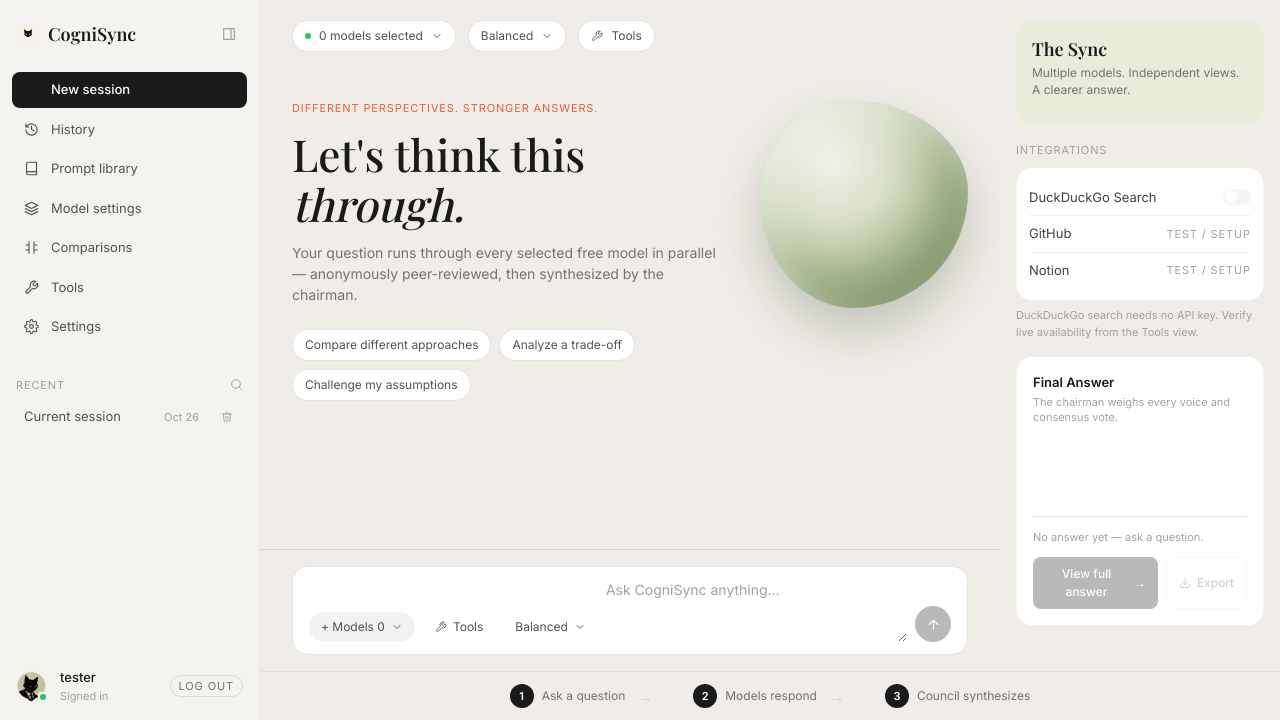
Scenario: conversation deletion › confirms, deletes the current session, and resets the workspace
The image size is (1280, 720).
Type "First question" into the text box with placeholder "Ask CogniSync anything…" at x=756, y=610, box [606,579,907,642]
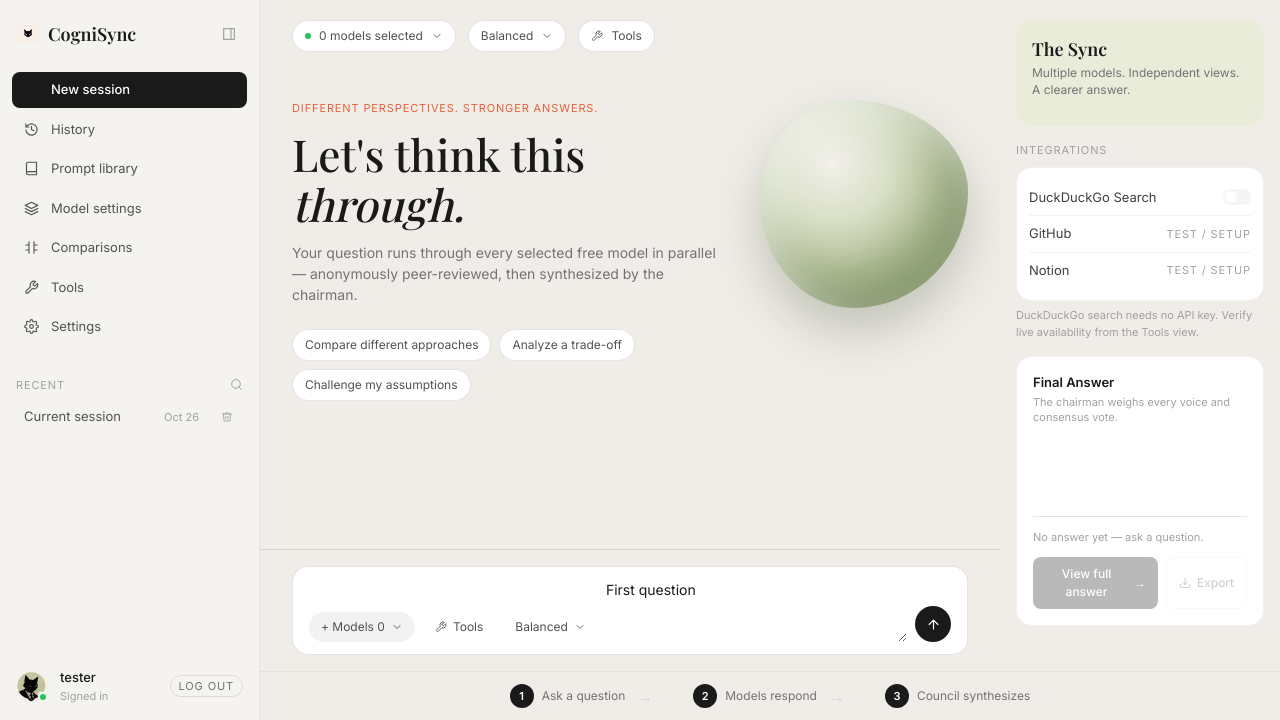
Press Enter
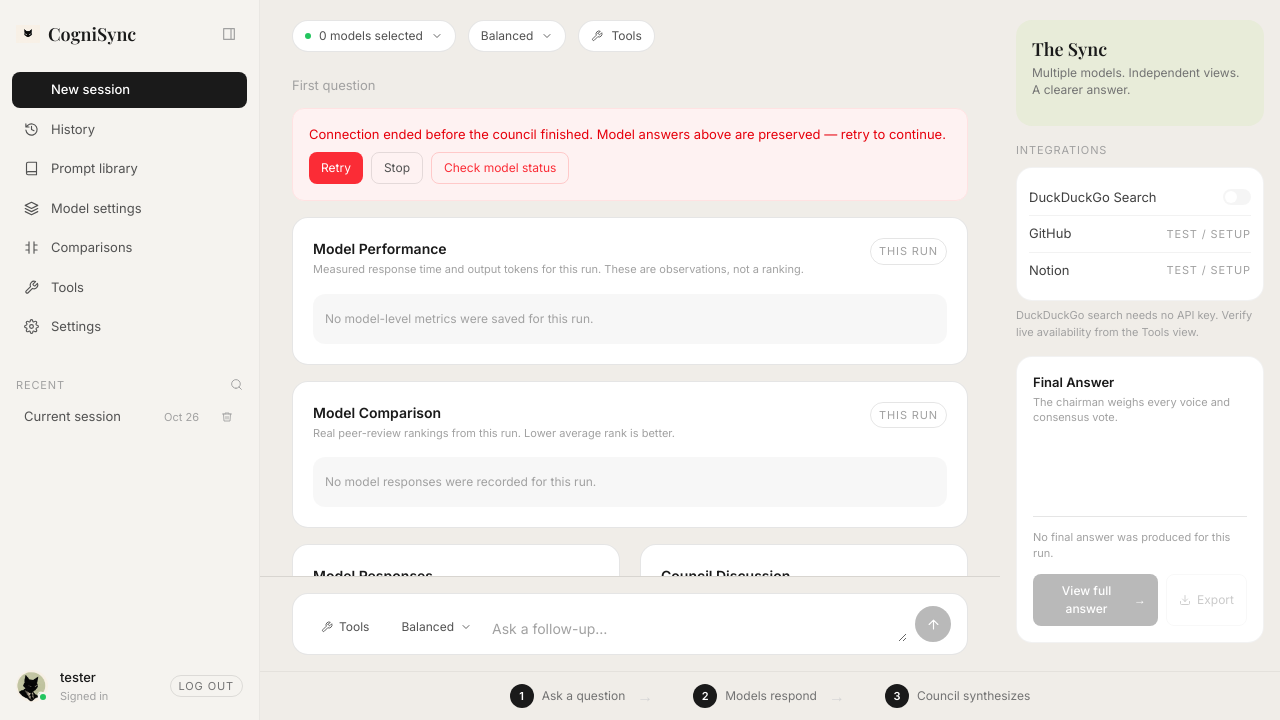
Result: the text "First question" is shown at [292,77,376,93]
Click the button named "Delete Current session" at x=227, y=417, box [211,401,243,433]
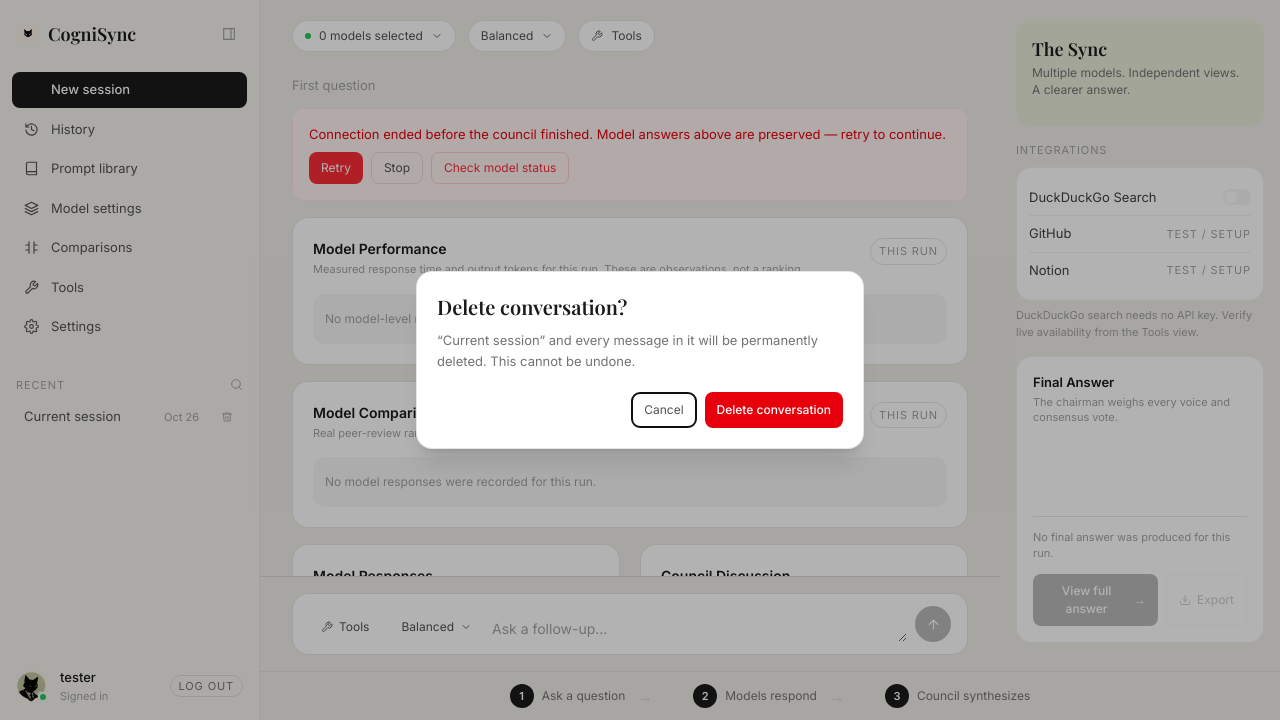
Result: the dialog "Delete conversation?" is shown at [416,271,864,449]
Result: the text "permanently deleted" shows "Current session" at [443,332,539,348]
Click the button "Delete conversation" at x=774, y=410, box [705,392,843,428]
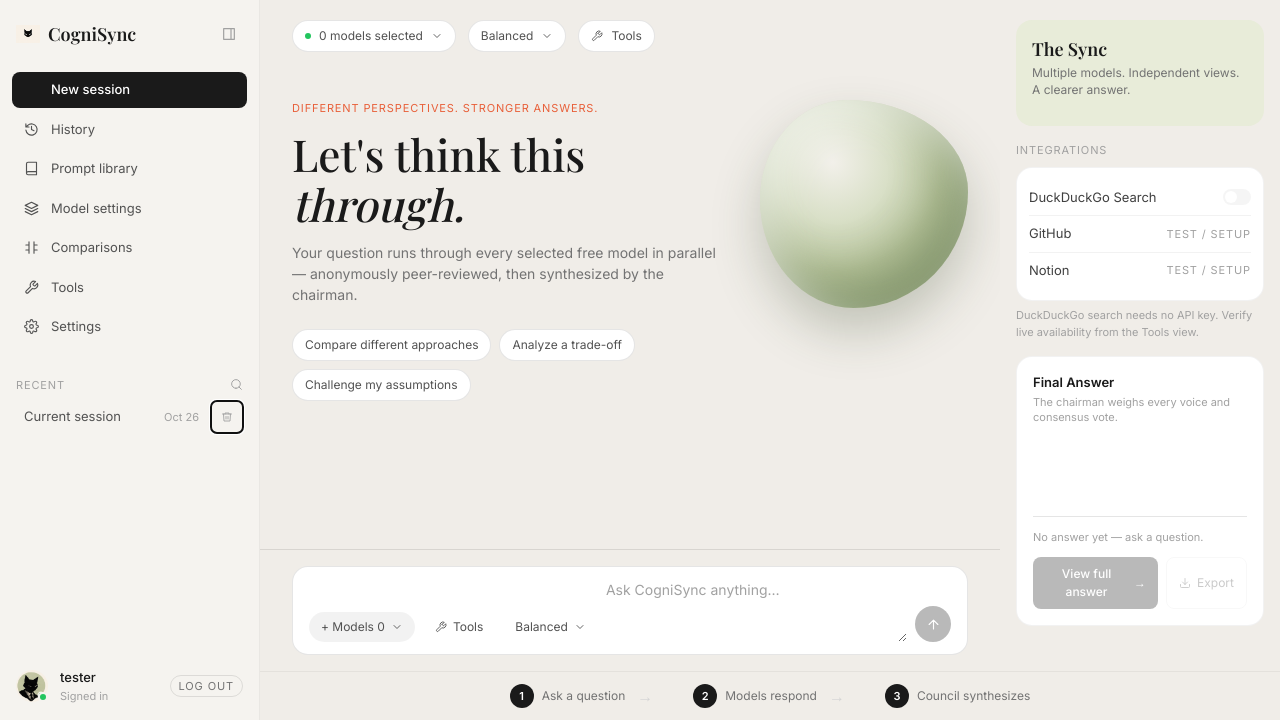
Result: the dialog is gone
Result: the heading "Let's think this through." is shown at [292,124,585,233]
Result: the text "First question" is gone
